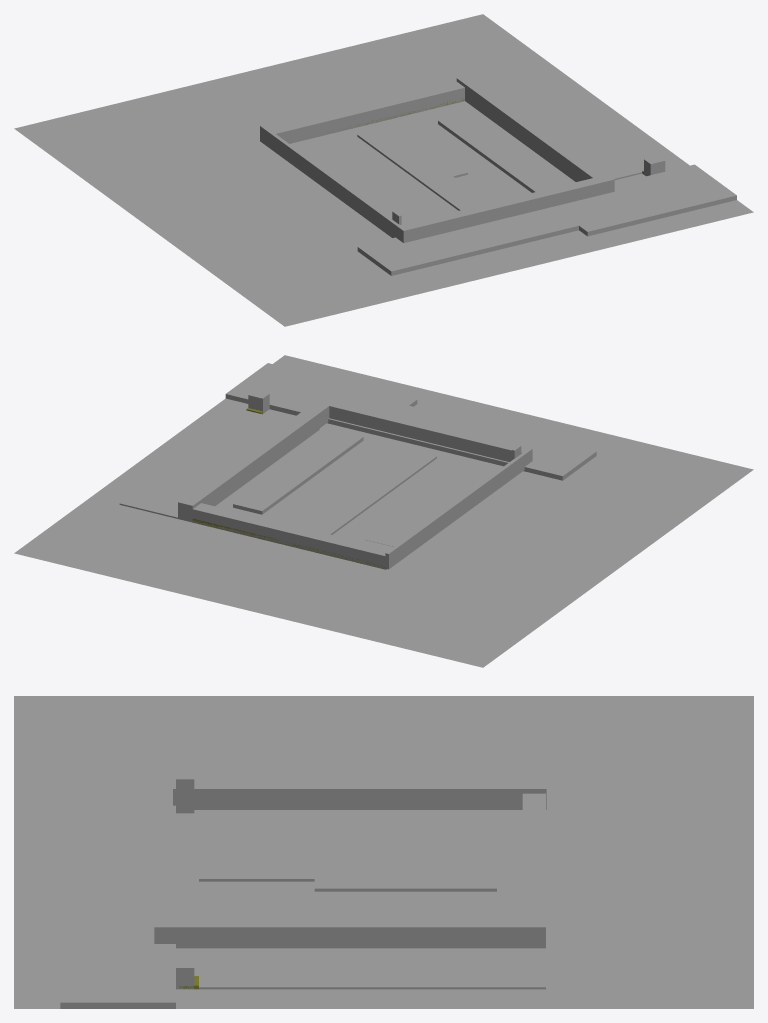
File: map8.obj
The picture shows the model from 3 angles, top to bottom: view 1: azimuth 30°, elevation 25°; view 2: azimuth 150°, elevation 25°; view 3: azimuth 270°, elevation 25°; orthographic projection. The views are drawn at different scales.
Visible parts, largest first — view 1: Plane_Plane.000_Plane_Plane.001; view 2: Plane_Plane.000_Plane_Plane.001, Plane_Plane.006; view 3: Plane_Plane.000_Plane_Plane.001.
Boxes of the visible parts, x1,y1,x2,y2 form: Plane_Plane.000_Plane_Plane.001: (14,14,753,326); Plane_Plane.000_Plane_Plane.001: (14,355,753,667); Plane_Plane.006: (192,408,385,569); Plane_Plane.000_Plane_Plane.001: (14,696,753,1008).
Size of the model in its own units: 114 by 5.81 by 114.
2 materials, 1 textured.
